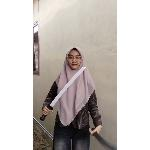Pedang: (38, 68, 91, 118)
